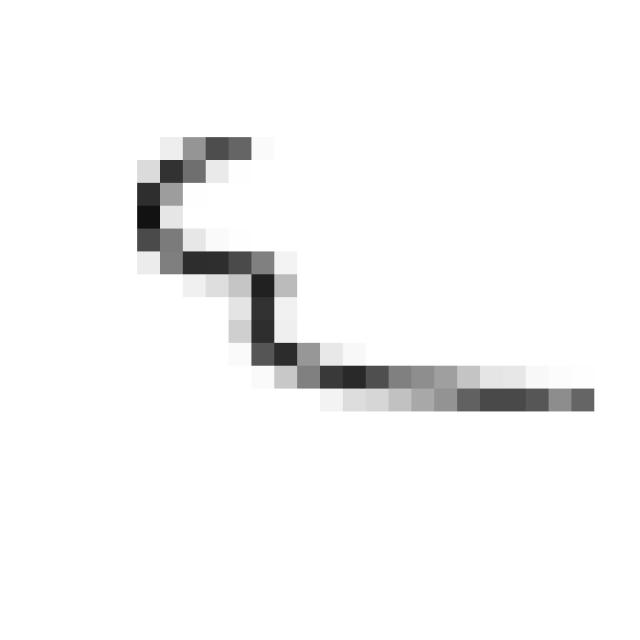4 -four-: (112, 119, 615, 433)
